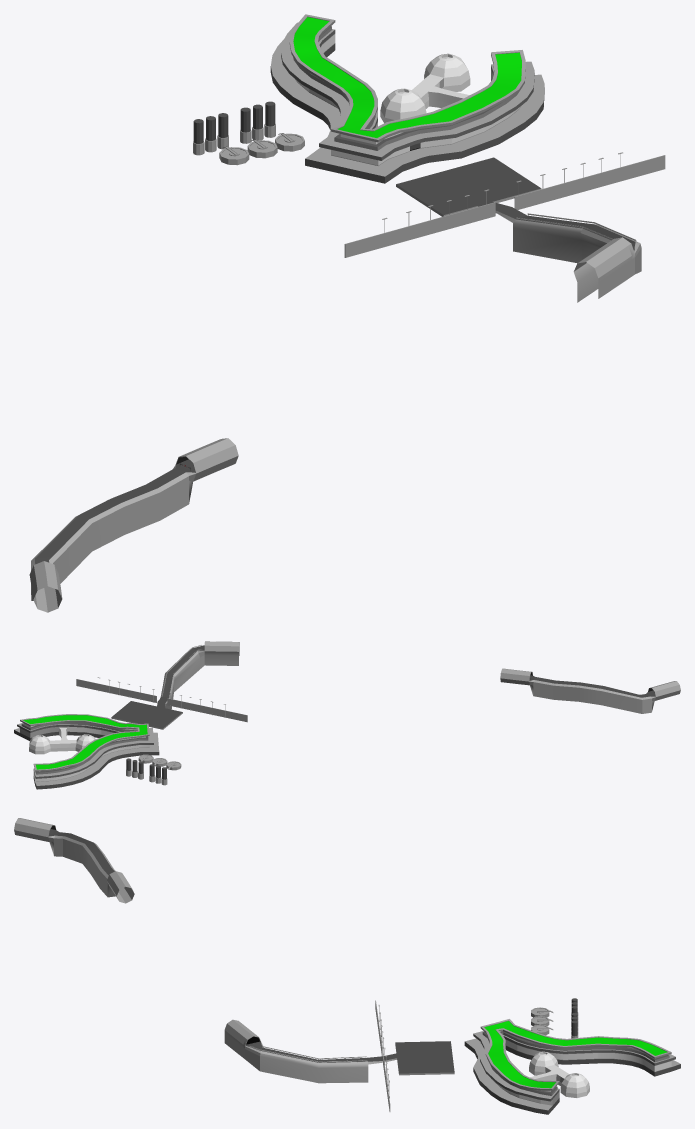
File: complexo_exterior_v2.fbx
The picture shows the model from 3 angles, top to bottom: view 1: azimuth 30°, elevation 25°; view 2: azimuth 150°, elevation 25°; view 3: azimuth 270°, elevation 25°; orthographic projection. The views are drawn at different scales.
Visible parts, largest first — view 1: polySurface4, polySurface12, polySurface2, polySurface7, pCube2, pCube17, pCube9, group23_pasted__pCylinder30, pasted__pCylinder61, pasted__pCylinder60; view 2: polySurface4, polySurface12, polySurface2, polySurface7, pCube2, pCube17, pCube9, group23_pasted__pCylinder30, pasted__pCylinder61, pasted__pCylinder60; view 3: polySurface4, polySurface7, polySurface2, polySurface12, pCube2.
Boxes of the visible parts, <box> form: polySurface4: <box>270,22,544,183</box>; polySurface12: <box>29,438,238,612</box>; polySurface2: <box>289,14,525,144</box>; polySurface7: <box>513,215,641,302</box>; pCube2: <box>396,157,541,222</box>; pCube17: <box>344,202,495,257</box>; pCube9: <box>514,155,665,209</box>; group23_pasted__pCylinder30: <box>219,133,304,165</box>; pasted__pCylinder61: <box>240,101,275,143</box>; pasted__pCylinder60: <box>193,113,228,155</box>; polySurface4: <box>14,722,159,789</box>; polySurface12: <box>500,668,680,713</box>; polySurface2: <box>20,714,149,771</box>; polySurface7: <box>160,641,239,709</box>; pCube2: <box>111,696,182,729</box>; pCube17: <box>167,698,247,722</box>; pCube9: <box>76,679,156,702</box>; group23_pasted__pCylinder30: <box>138,754,181,770</box>; pasted__pCylinder61: <box>126,758,143,779</box>; pasted__pCylinder60: <box>149,764,167,785</box>; polySurface4: <box>464,1031,680,1114</box>; polySurface7: <box>224,1019,368,1083</box>; polySurface2: <box>480,1019,671,1091</box>; polySurface12: <box>14,818,134,903</box>; pCube2: <box>366,1041,454,1075</box>.
Size of the model in its own units: 365 by 27.93 by 359.
